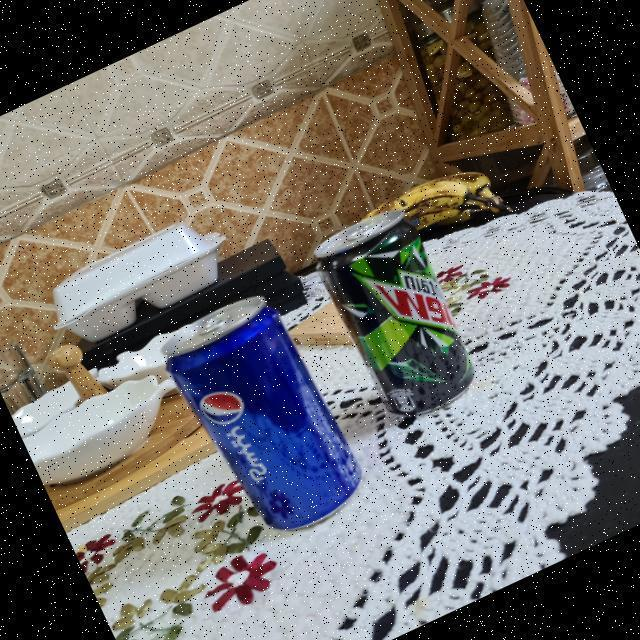can: (295, 198, 488, 434)
